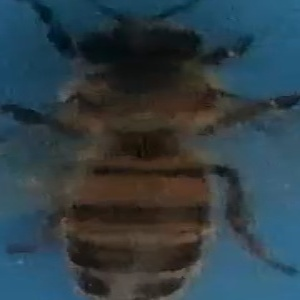bee: (15, 4, 293, 300)
